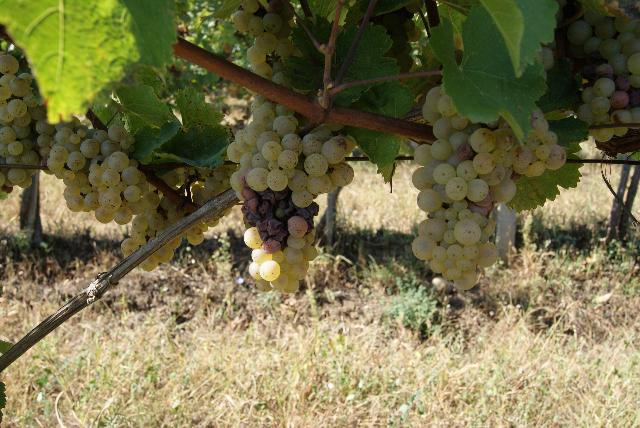grapes: (411, 85, 566, 290), (228, 102, 354, 292), (35, 118, 165, 254), (568, 10, 640, 148), (0, 54, 56, 166)
